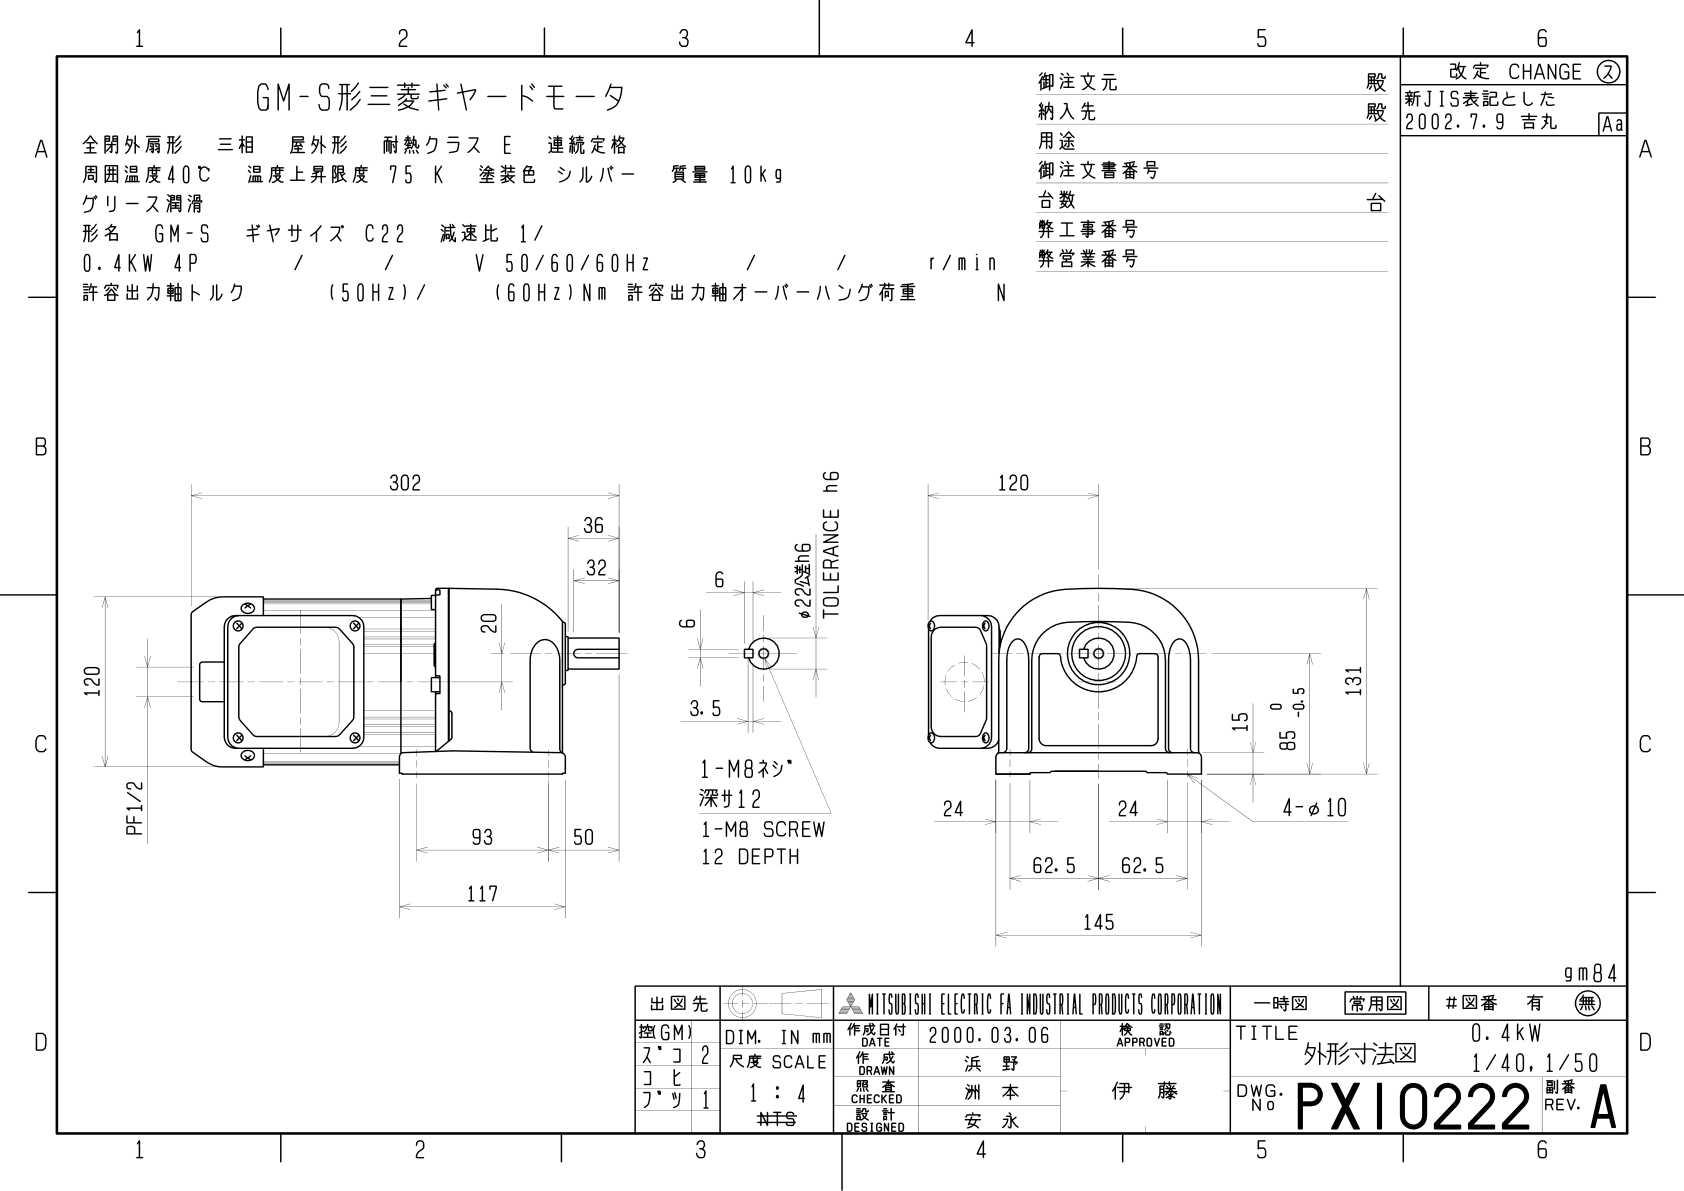GM_S_屋外＿三相_脚: (71, 429, 1389, 967)
